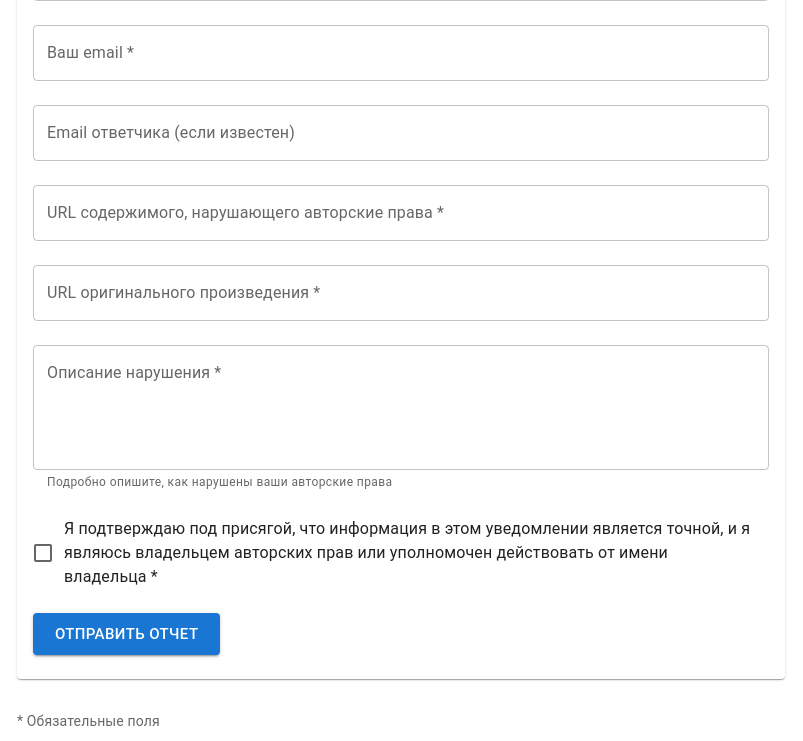
Test case: DmcaReportForm › показывает ошибки валидации при отправке пустой формы
The image size is (803, 741).
(page scrolled)
# Нажимаем кнопку отправки без заполнения полей
Click the button "Отправить отчет" at {"x": 127, "y": 634}, box [33,613,220,655]
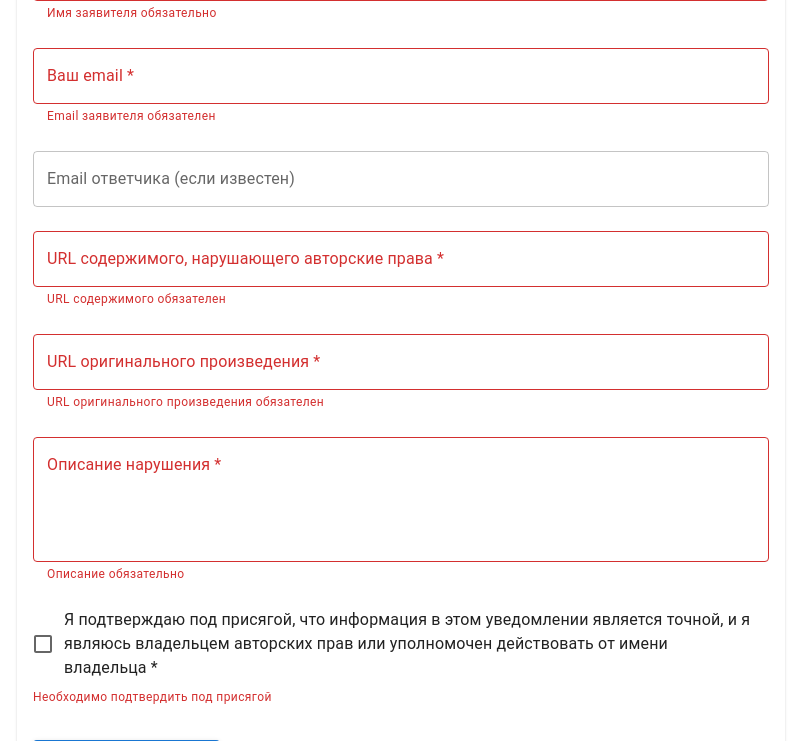
Expected: the text "Имя заявителя обязательно" is shown, [47,6,217,20]
Expected: the text "Email заявителя обязателен" is shown, [47,109,216,123]
Expected: the text "URL содержимого обязателен" is shown, [47,292,226,306]
